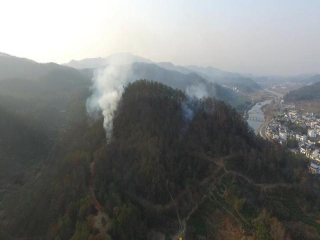smoke: (85, 55, 139, 146), (178, 79, 213, 123)
